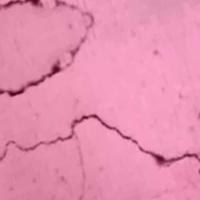crack: (0, 3, 199, 169)
